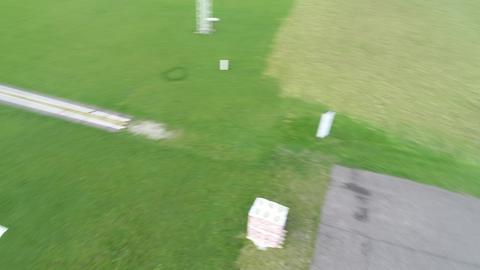RockwoolPallet: (250, 198, 288, 244)
